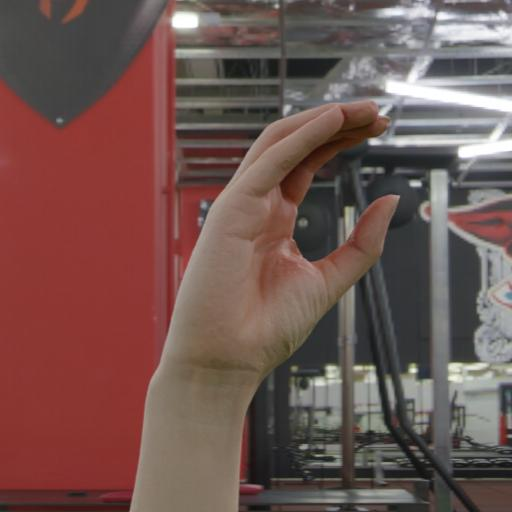C: (142, 77, 443, 401)
